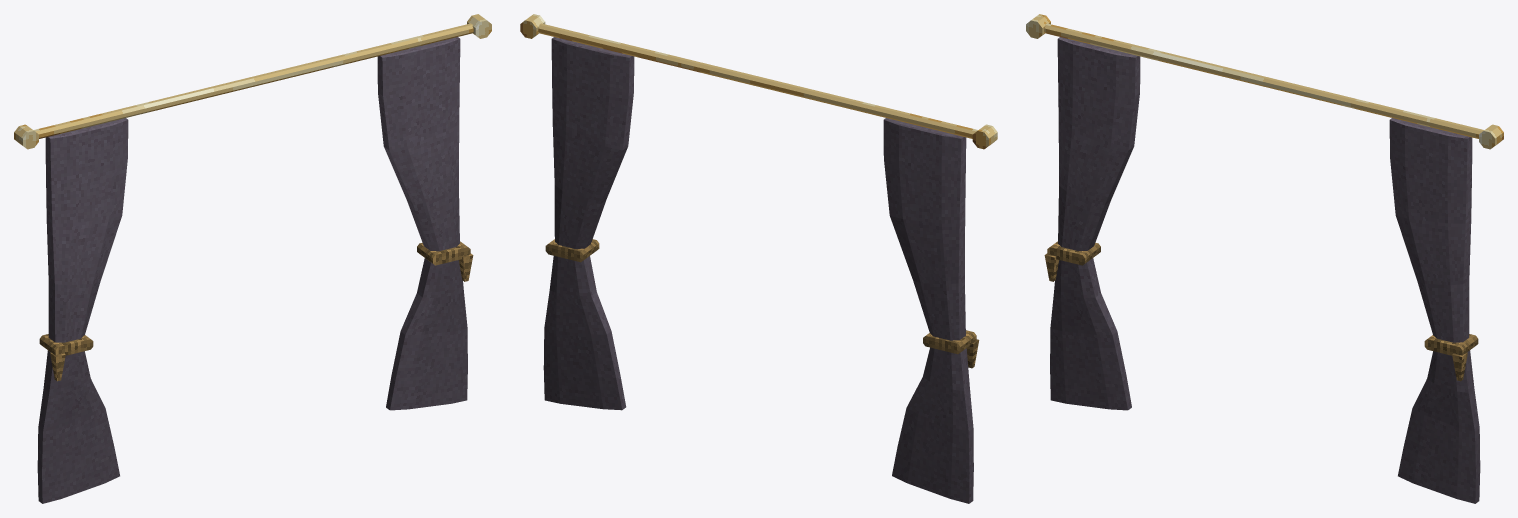
The model's file is curtains.glb.
3 views of the same model, side by side, from view 1: azimuth 30°, elevation 25°; view 2: azimuth 150°, elevation 25°; view 3: azimuth 330°, elevation 25° (orthographic).
Parts seen in each view (by area): view 1: panel_1, panel, rod, tie, tie_1; view 2: panel, panel_1, rod, tie, tie_1; view 3: panel, panel_1, rod, tie_1, tie.
Part boxes in pixels (x1=…): panel_1: x1=377, y1=37, x2=467, y2=410; panel: x1=37, y1=118, x2=128, y2=503; rod: x1=33, y1=23, x2=473, y2=138; tie: x1=39, y1=334, x2=93, y2=355; tie_1: x1=417, y1=241, x2=470, y2=265; panel: x1=883, y1=118, x2=973, y2=503; panel_1: x1=543, y1=37, x2=634, y2=410; rod: x1=538, y1=23, x2=977, y2=138; tie: x1=923, y1=330, x2=976, y2=354; tie_1: x1=545, y1=239, x2=599, y2=262; panel: x1=1050, y1=37, x2=1140, y2=410; panel_1: x1=1389, y1=118, x2=1480, y2=503; rod: x1=1044, y1=23, x2=1484, y2=138; tie_1: x1=1424, y1=334, x2=1478, y2=355; tie: x1=1047, y1=241, x2=1100, y2=265.
Size of the model in its own units: 3.73 by 2.87 by 0.24.
1 material, 1 textured.
